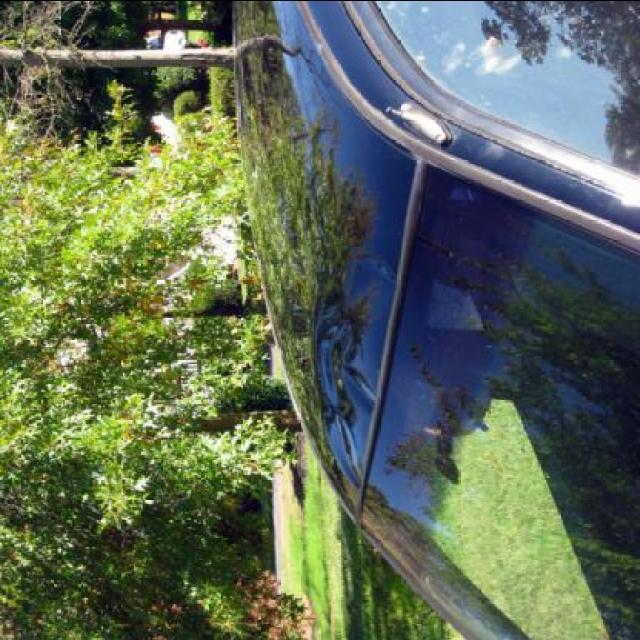roof-dent: (306, 250, 390, 477)
